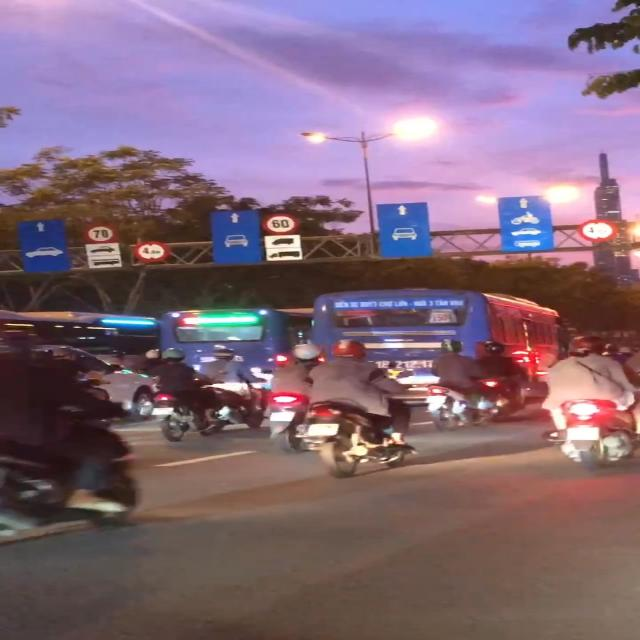Bien bao han che chieu cao: (136, 240, 168, 262)
Bien bao toc do toi da cho phep: (260, 213, 303, 236), (83, 224, 123, 245)
